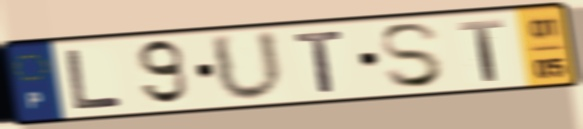9: (133, 38, 193, 109)
L: (62, 47, 127, 113)
S: (375, 20, 448, 91)
T: (291, 28, 348, 95), (455, 17, 507, 84)
U: (206, 27, 289, 105)
